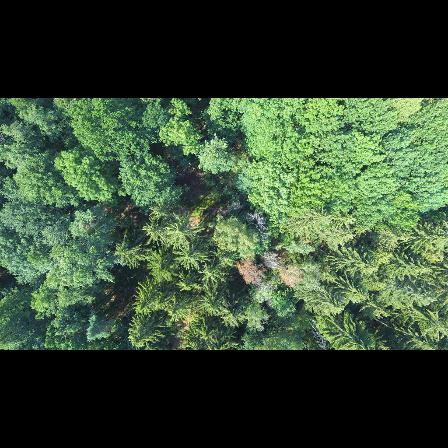Dead: (256, 248, 289, 273), (248, 210, 270, 238)
